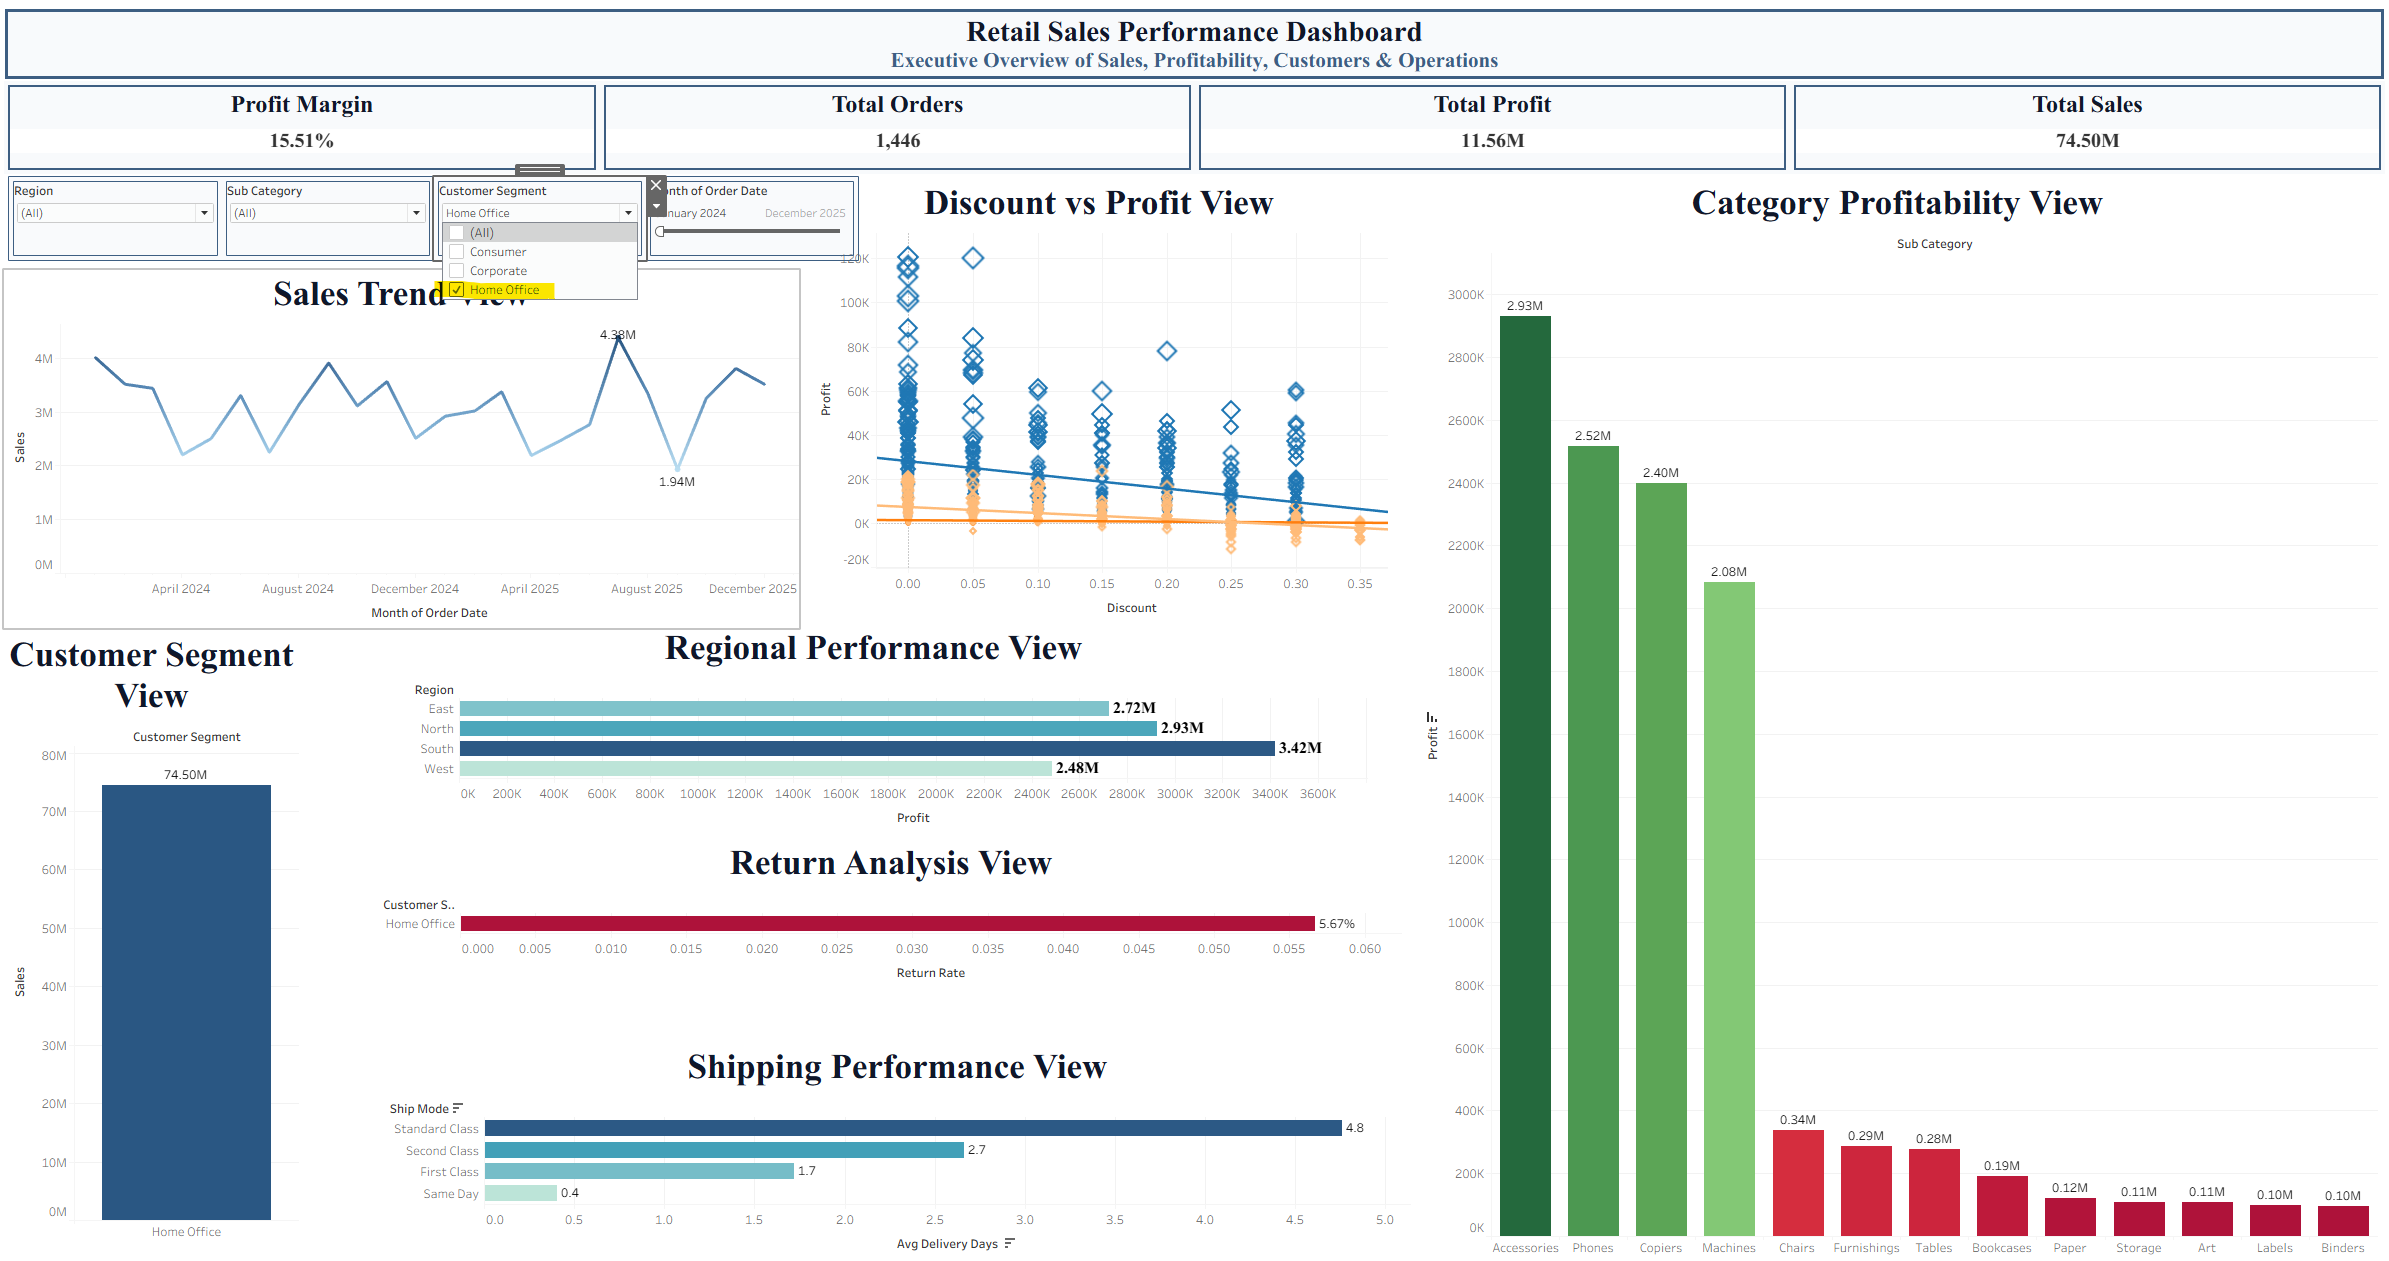

The page's visual inventory and layout, read from the dashboard file:
{"tool":"tableau","page":{"name":"executive dashboard","canvas":[1000,1000],"units":"permille","ordinal":0},"visuals":[{"type":"text","box":[2.1,7.1,995.8,55.4]},{"type":"worksheet","title":"Profit Margin","mark":"Automatic","box":[1.7,64.1,249.5,73.6]},{"type":"worksheet","title":"Total Orders","mark":"Automatic","box":[251.2,64.1,249.1,73.6]},{"type":"worksheet","title":"Total Profit","mark":"Automatic","box":[500.2,64.1,249.1,73.6]},{"type":"worksheet","title":"Total Sales","mark":"Automatic","box":[749.3,64.1,249.1,73.6]},{"type":"filter","title":"Regional Performance View","param":"[federated.0glizpe1igq69y17wckf10kld4u5].[none:region:nk]","box":[3.8,140,89.2,65.7]},{"type":"filter","title":"Category Profitability View","param":"[federated.0glizpe1igq69y17wckf10kld4u5].[none:sub_category:nk]","box":[92.9,140,88.7,65.7]},{"type":"filter","title":"Customer Segment View","param":"[federated.0glizpe1igq69y17wckf10kld4u5].[none:customer_segment:nk]","box":[181.7,140,88.7,65.7]},{"type":"filter","title":"Sales trend view","param":"[federated.0glizpe1igq69y17wckf10kld4u5].[tmn:order_date:qk]","box":[270.4,140,88.7,65.7]},{"type":"worksheet","title":"Discount vs Profit View","mark":"Automatic","rows":["profit"],"cols":["discount"],"box":[339.1,141.6,241.9,351.3]},{"type":"worksheet","title":"Category Profitability View","mark":"Automatic","rows":["profit"],"cols":["sub_category"],"box":[593,141.6,402.4,852.9]},{"type":"worksheet","title":"Sales trend view","mark":"Automatic","rows":["sales"],"cols":["order_date"],"box":[1.7,213.6,332.8,283.2]},{"type":"worksheet","title":"Regional Performance View","mark":"Automatic","rows":["region"],"cols":["profit"],"box":[158.6,493.7,414,167.7]},{"type":"worksheet","title":"Customer Segment View","mark":"Automatic","rows":["sales"],"cols":["customer_segment"],"box":[1.7,499.2,123.5,497.6]},{"type":"worksheet","title":"Return Analysis View","mark":"Automatic","rows":["customer_segment"],"cols":["Calculation_1841424209027075"],"box":[159.1,663.8,427.8,158.2]},{"type":"worksheet","title":"Shipping Performance View","mark":"Automatic","rows":["ship_mode"],"cols":["Calculation_0917009885216768"],"box":[160.7,825.2,429.9,170.9]}]}

Visuals, with their boxes on the dashboard's canvas, which has no fixed pixel size, in thousandths of its width and height (x1, y1, x2, y2). These are canvas units, not pixel positions in the 2389x1261 screenshot, which may show the page scaled, cropped or inside an application window:
text: 2, 7, 998, 62
"Profit Margin" worksheet: 2, 64, 251, 138
"Total Orders" worksheet: 251, 64, 500, 138
"Total Profit" worksheet: 500, 64, 749, 138
"Total Sales" worksheet: 749, 64, 998, 138
"Regional Performance View" filter: 4, 140, 93, 206
"Category Profitability View" filter: 93, 140, 182, 206
"Customer Segment View" filter: 182, 140, 270, 206
"Sales trend view" filter: 270, 140, 359, 206
"Discount vs Profit View" worksheet: 339, 142, 581, 493
"Category Profitability View" worksheet: 593, 142, 995, 994
"Sales trend view" worksheet: 2, 214, 334, 497
"Regional Performance View" worksheet: 159, 494, 573, 661
"Customer Segment View" worksheet: 2, 499, 125, 997
"Return Analysis View" worksheet: 159, 664, 587, 822
"Shipping Performance View" worksheet: 161, 825, 591, 996
